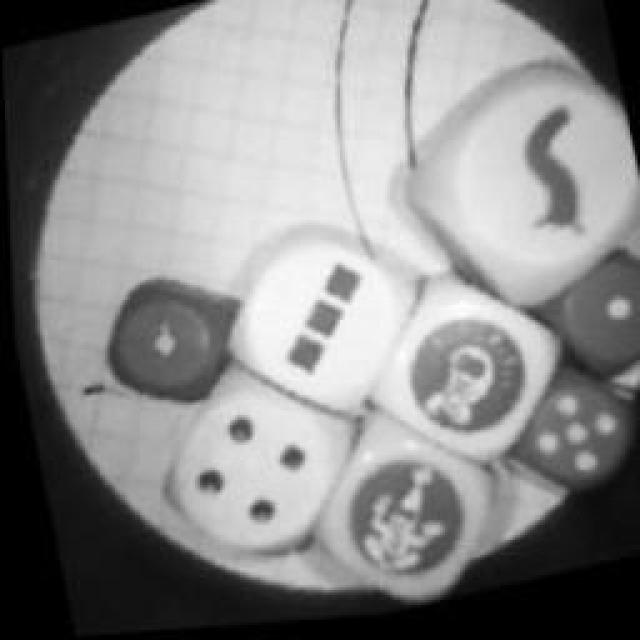dice_1: (80, 250, 258, 435), (520, 242, 640, 398)
dice_4: (124, 342, 378, 596)
dice_5: (482, 356, 640, 526)
